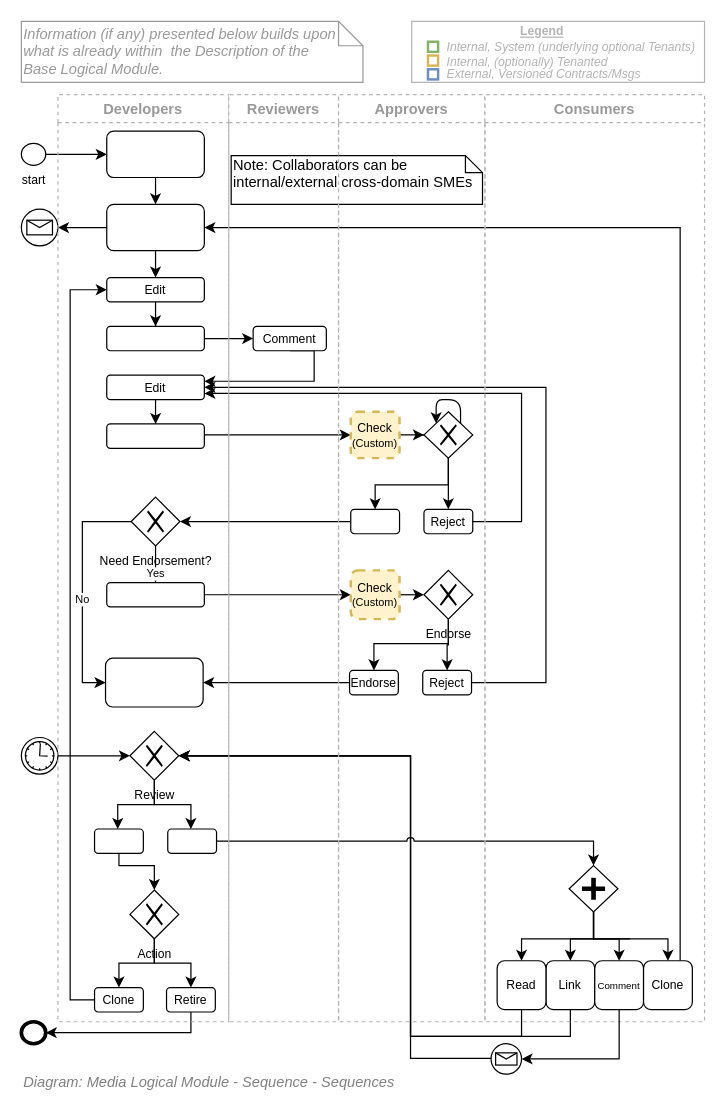
Image size: 726x1116. Some labels were removed from this diagram. The centre of each missing label's shape, as x and y in pixels:
"Approval" goes at (375,521).
"Approve" goes at (448,434).
"Create new Typed (ie structured) Media" goes at (155,154).
"Current" goes at (192,840).
"end" goes at (33,1032).
"Invite Collaborators to Draft" goes at (155,227).
"Publish for Approval" goes at (155,435).
"Publish for Consumption" goes at (153,682).
"Publish for Endorsement" goes at (155,594).
"Publish for Review" goes at (155,338).
"Stale" goes at (118,840).
"Use" goes at (593,888).
